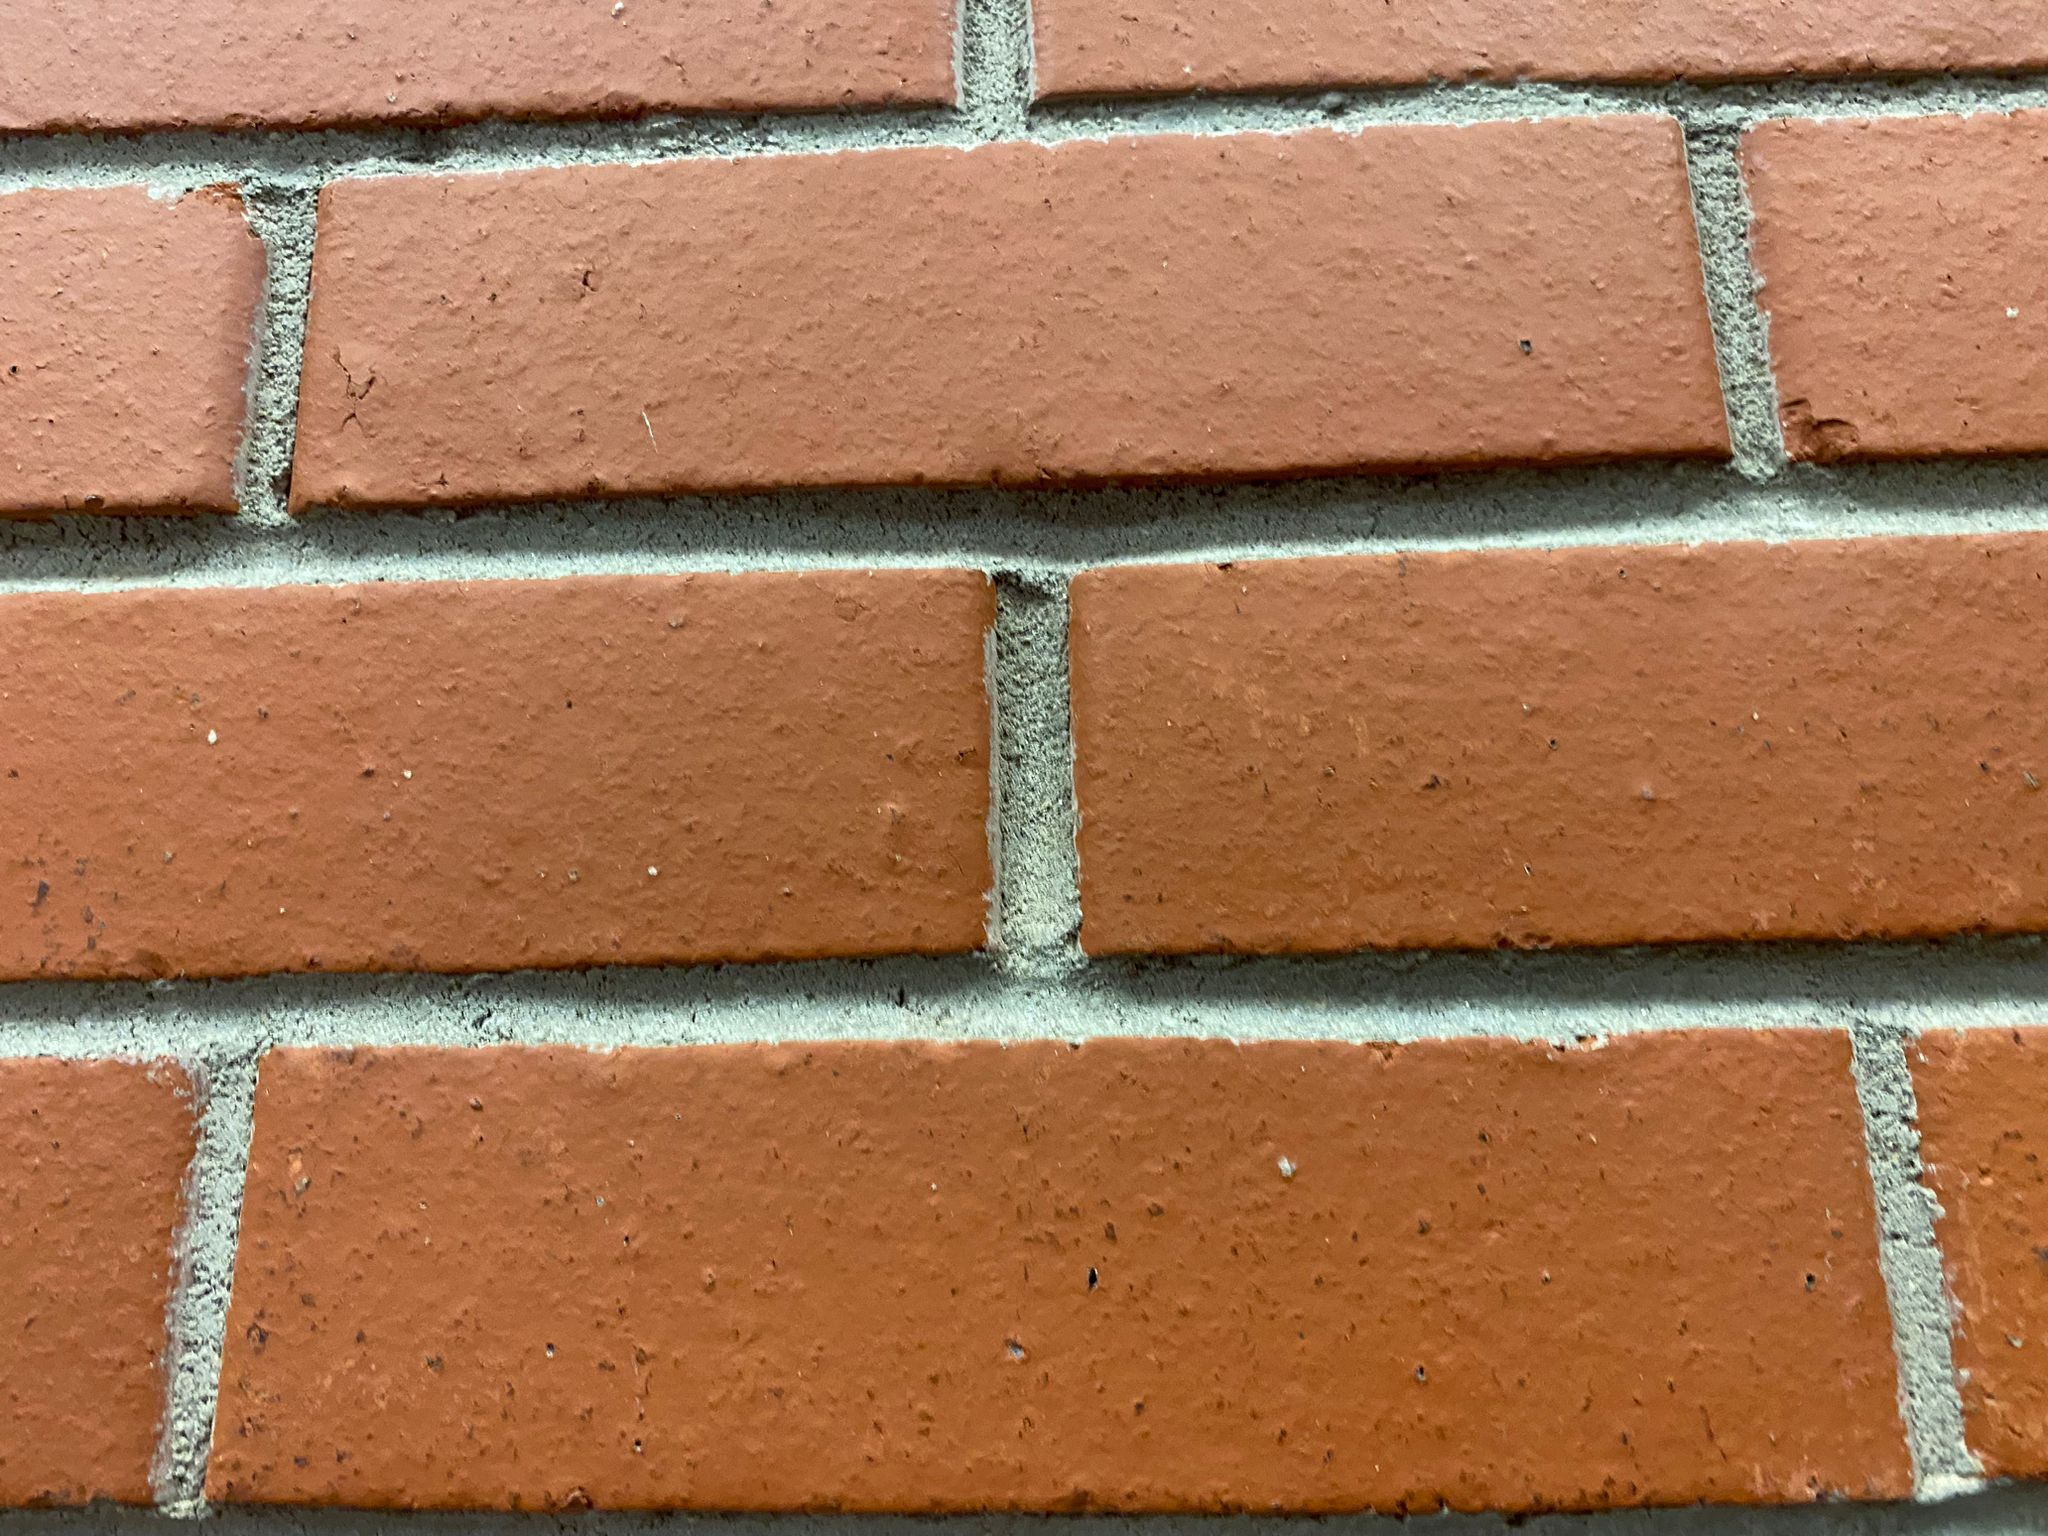redbrick: (82, 929, 1863, 1478), (334, 153, 1714, 461), (2, 482, 998, 878), (993, 526, 2048, 899), (2, 2, 1001, 153), (1063, 2, 2048, 139), (1717, 108, 2048, 482), (2, 182, 358, 426), (1901, 1002, 2048, 1526)
